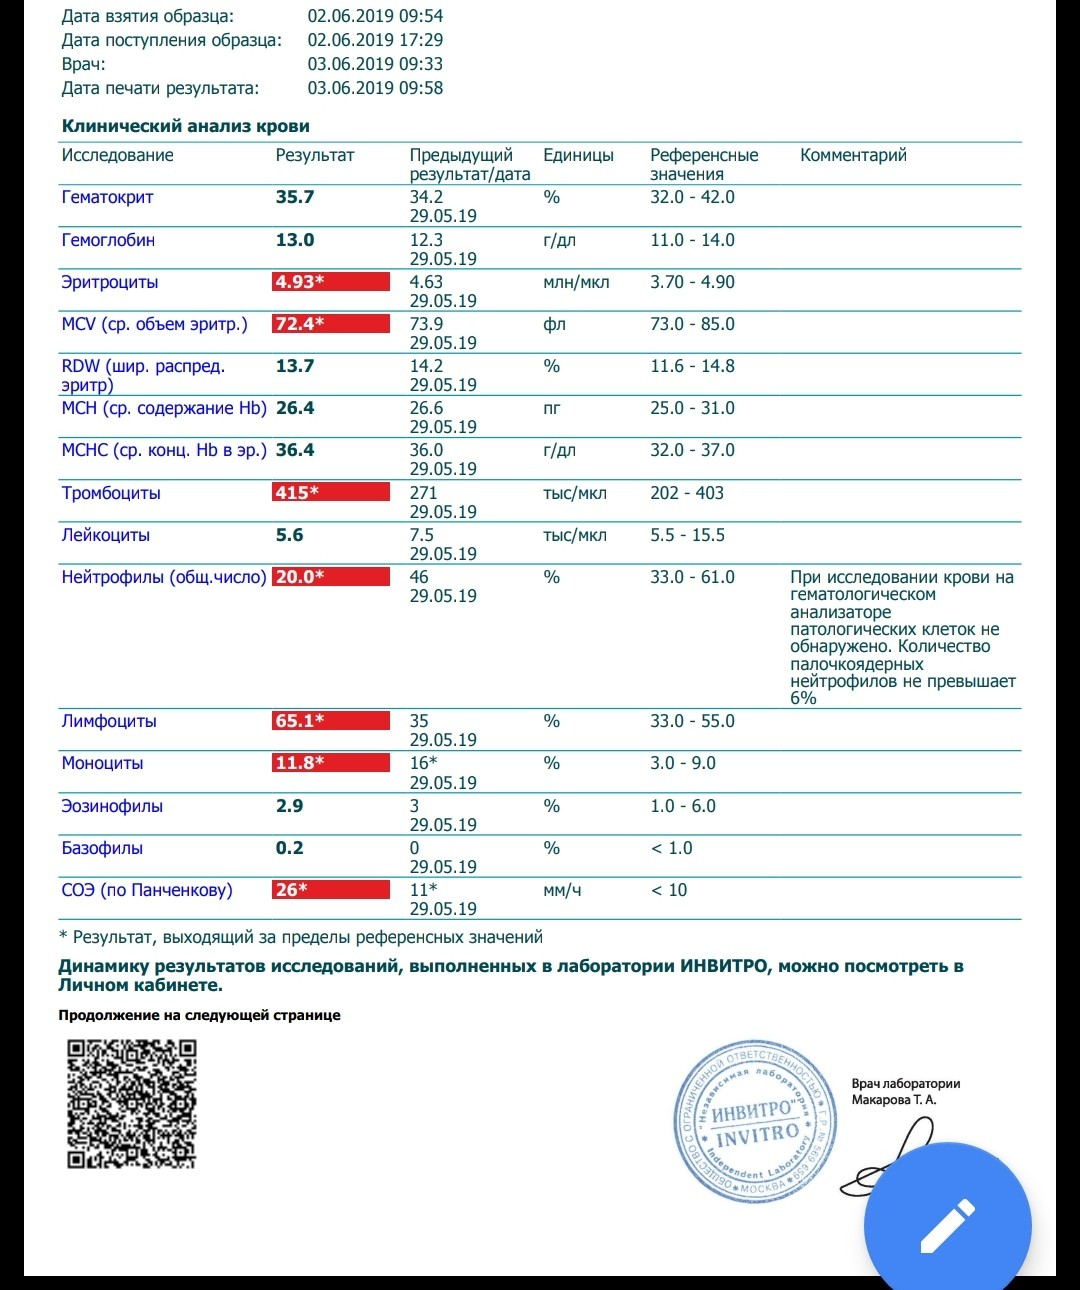column: (789, 142, 1017, 919), (61, 142, 267, 919), (408, 142, 531, 919), (649, 142, 759, 919), (275, 142, 356, 919), (542, 142, 614, 919)
